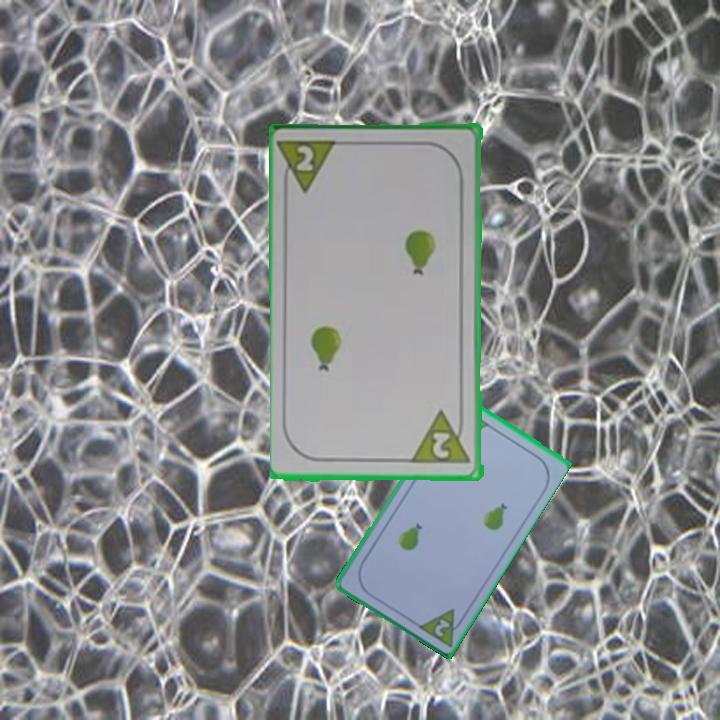2p: (277, 136, 342, 198), (410, 408, 474, 467), (413, 604, 469, 649)
